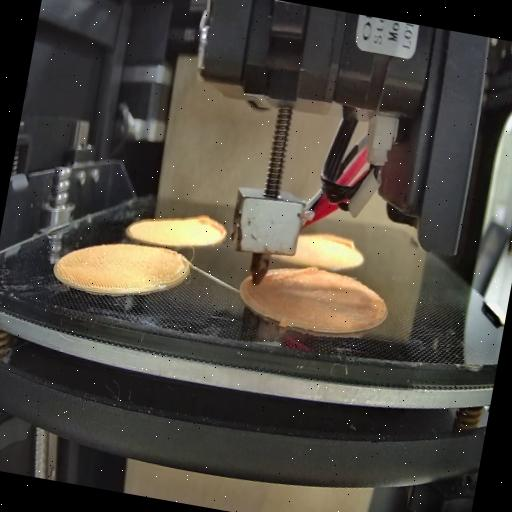over_extrusion: (263, 253, 319, 293), (191, 210, 232, 252), (320, 226, 358, 252)
